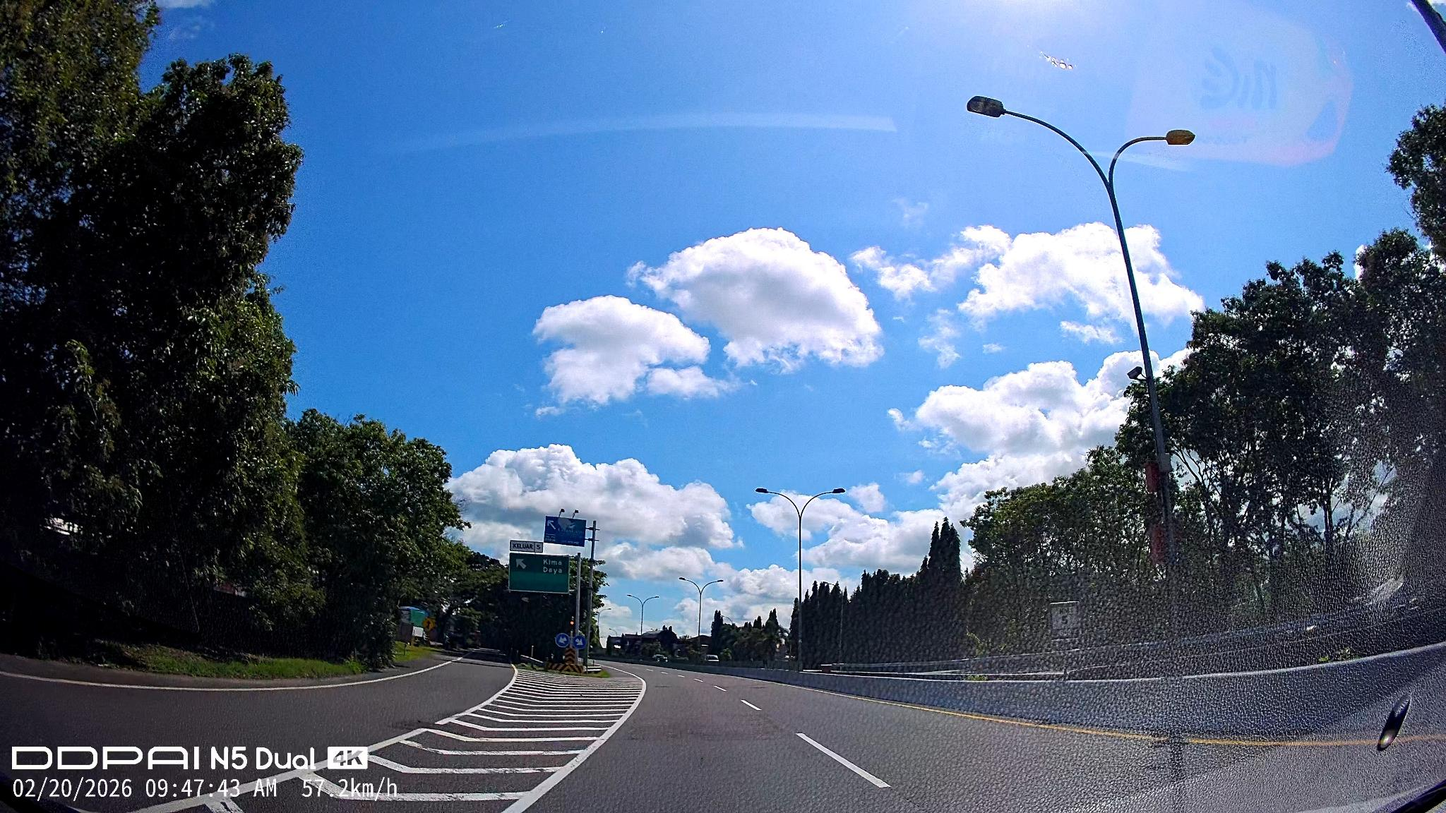rambu_teks: (507, 552, 571, 596)
